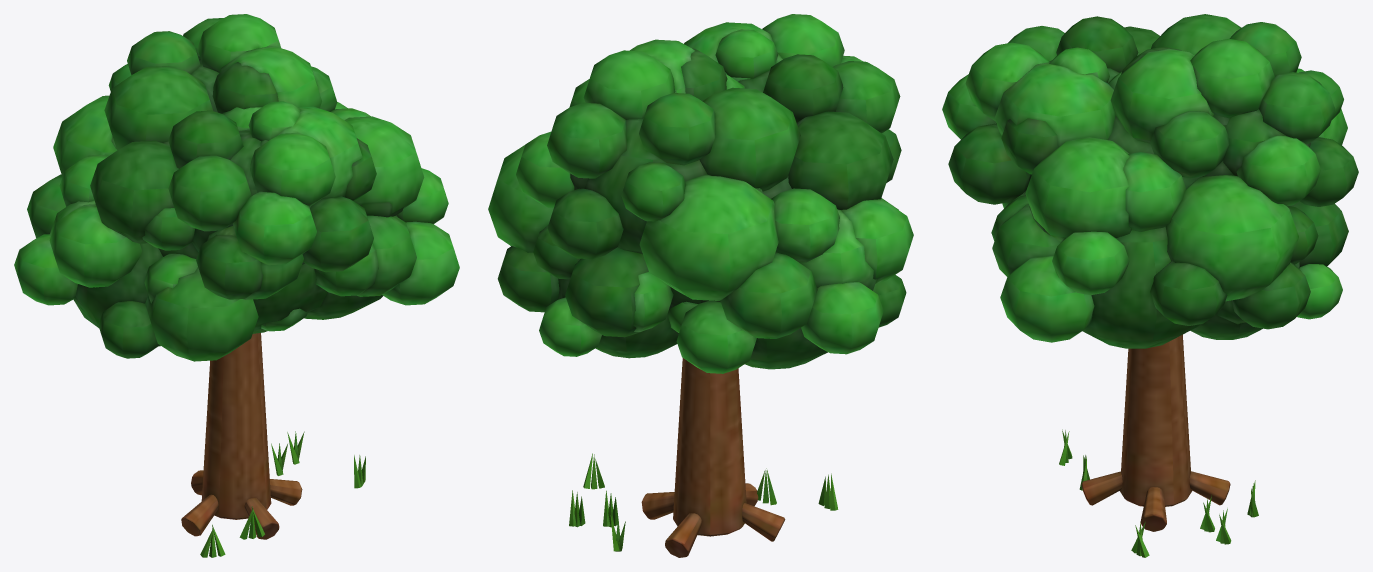
File: cherry_tree.glb
The picture shows the model from 3 angles, left to right: view 1: azimuth 30°, elevation 25°; view 2: azimuth 150°, elevation 25°; view 3: azimuth 270°, elevation 25°; orthographic projection. The views are drawn at different scales.
Parts seen in each view (by area): view 1: crown, cherry_tree; view 2: crown, cherry_tree; view 3: crown, cherry_tree.
Boxes of the visible parts, left/top/right/bottom form: crown: left=14, top=14, right=459, bottom=361; cherry_tree: left=181, top=333, right=365, bottom=557; crown: left=488, top=14, right=913, bottom=373; cherry_tree: left=569, top=358, right=838, bottom=557; crown: left=942, top=14, right=1358, bottom=348; cherry_tree: left=1059, top=334, right=1258, bottom=557.
Size of the model in its own units: 1.1 by 1.31 by 1.03.
Materials: 1 (1 with a texture image).
